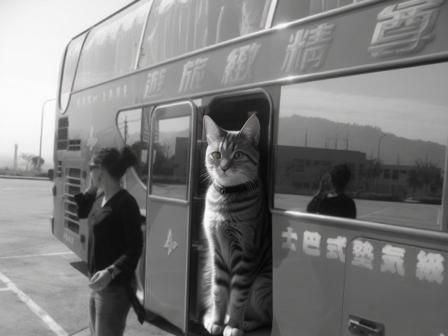bus: (52, 2, 448, 336)
cat: (200, 113, 272, 336)
person: (75, 146, 146, 336), (308, 165, 359, 220)
